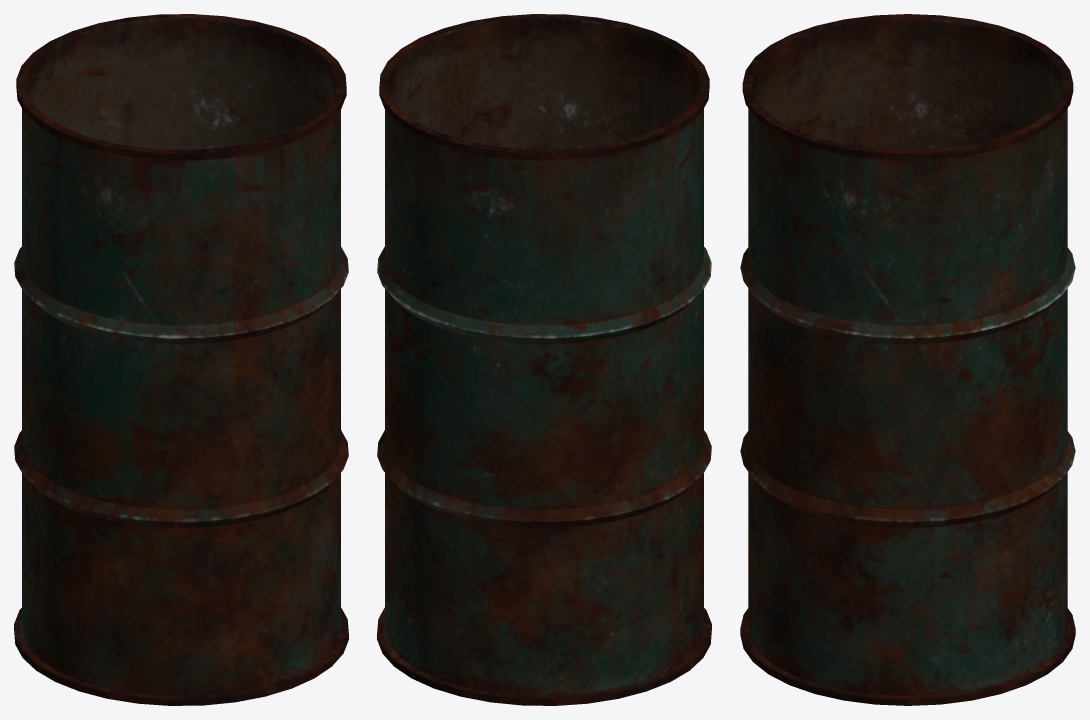
The model's file is drum_old_01.glb.
The picture shows the model from 3 angles, left to right: view 1: azimuth 30°, elevation 25°; view 2: azimuth 150°, elevation 25°; view 3: azimuth 270°, elevation 25°; orthographic projection.
Parts seen in each view (by area): view 1: drum_drumMt_0; view 2: drum_drumMt_0; view 3: drum_drumMt_0.
Part boxes in pixels (box(x1,y1,x2,y2)): drum_drumMt_0: box(14, 14, 348, 705); drum_drumMt_0: box(377, 14, 711, 705); drum_drumMt_0: box(740, 14, 1075, 705).
Bounding box in the file's own units: 0.4961 × 0.9 × 0.4961.
1 material, 1 textured.
